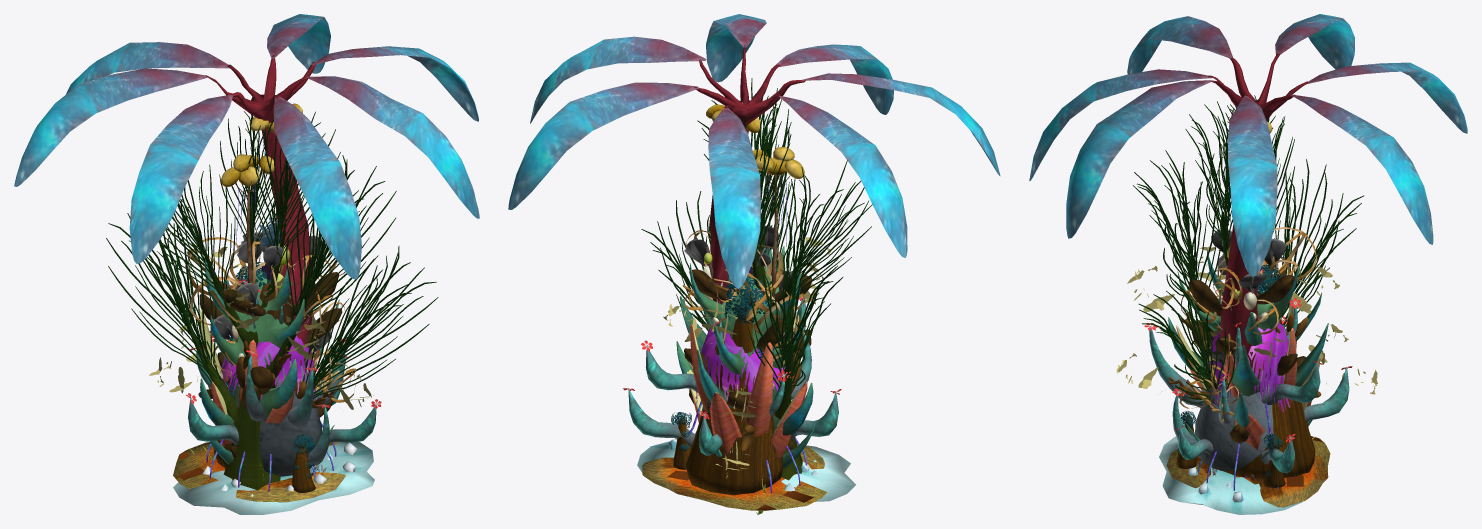
The model's file is Cartoon Seaweed2.FBX.
3 views of the same model, side by side, from view 1: azimuth 30°, elevation 25°; view 2: azimuth 150°, elevation 25°; view 3: azimuth 270°, elevation 25° (orthographic). The views are drawn at different scales.
Visible parts, largest first — view 1: Cartoon_Seaweed2_1, Cartoon_Seaweed2_3, Cartoon_Seaweed2_9, Cartoon_Seaweed2_13, Cartoon_Seaweed2_4, Cartoon_Seaweed2_5, Cartoon_Seaweed2_12, Cartoon_Seaweed2_7, Cartoon_Seaweed2_2, Cartoon_Seaweed2_16, Cartoon_Seaweed2_11, Cartoon_Seaweed2_10; view 2: Cartoon_Seaweed2_1, Cartoon_Seaweed2_3, Cartoon_Seaweed2_4, Cartoon_Seaweed2_9, Cartoon_Seaweed2_13, Cartoon_Seaweed2_10, Cartoon_Seaweed2_11, Cartoon_Seaweed2_12, Cartoon_Seaweed2_2, Cartoon_Seaweed2_5, Cartoon_Seaweed2_7, Cartoon_Seaweed2_16; view 3: Cartoon_Seaweed2_1, Cartoon_Seaweed2_9, Cartoon_Seaweed2_3, Cartoon_Seaweed2_4, Cartoon_Seaweed2_13, Cartoon_Seaweed2_12, Cartoon_Seaweed2_7, Cartoon_Seaweed2_11, Cartoon_Seaweed2_5, Cartoon_Seaweed2_10, Cartoon_Seaweed2_16.
Boxes of the visible parts, box(x1,y1,x2,y2) form: Cartoon_Seaweed2_1: box(14, 14, 479, 365); Cartoon_Seaweed2_3: box(106, 111, 438, 490); Cartoon_Seaweed2_9: box(173, 279, 381, 514); Cartoon_Seaweed2_13: box(200, 259, 341, 464); Cartoon_Seaweed2_4: box(173, 262, 345, 502); Cartoon_Seaweed2_5: box(199, 272, 342, 458); Cartoon_Seaweed2_12: box(149, 247, 373, 480); Cartoon_Seaweed2_7: box(185, 237, 355, 402); Cartoon_Seaweed2_2: box(221, 103, 302, 317); Cartoon_Seaweed2_16: box(209, 232, 331, 364); Cartoon_Seaweed2_11: box(206, 335, 336, 491); Cartoon_Seaweed2_10: box(200, 309, 332, 446); Cartoon_Seaweed2_1: box(508, 14, 1000, 362); Cartoon_Seaweed2_3: box(641, 78, 872, 480); Cartoon_Seaweed2_4: box(642, 271, 827, 510); Cartoon_Seaweed2_9: box(623, 289, 855, 501); Cartoon_Seaweed2_13: box(676, 246, 815, 469); Cartoon_Seaweed2_10: box(687, 312, 807, 459); Cartoon_Seaweed2_11: box(689, 323, 807, 493); Cartoon_Seaweed2_12: box(663, 237, 830, 514); Cartoon_Seaweed2_2: box(706, 102, 804, 307); Cartoon_Seaweed2_5: box(684, 269, 811, 450); Cartoon_Seaweed2_7: box(682, 230, 805, 383); Cartoon_Seaweed2_16: box(684, 225, 794, 348); Cartoon_Seaweed2_1: box(1029, 14, 1467, 374); Cartoon_Seaweed2_9: box(1144, 269, 1352, 514); Cartoon_Seaweed2_3: box(1133, 95, 1363, 404); Cartoon_Seaweed2_4: box(1166, 264, 1330, 507); Cartoon_Seaweed2_13: box(1168, 248, 1328, 441); Cartoon_Seaweed2_12: box(1116, 246, 1377, 439); Cartoon_Seaweed2_7: box(1179, 227, 1317, 421); Cartoon_Seaweed2_11: box(1197, 323, 1289, 490); Cartoon_Seaweed2_5: box(1188, 254, 1306, 443); Cartoon_Seaweed2_10: box(1176, 299, 1320, 450); Cartoon_Seaweed2_16: box(1211, 229, 1286, 365).
Size of the model in its own units: 938 by 911 by 866.
